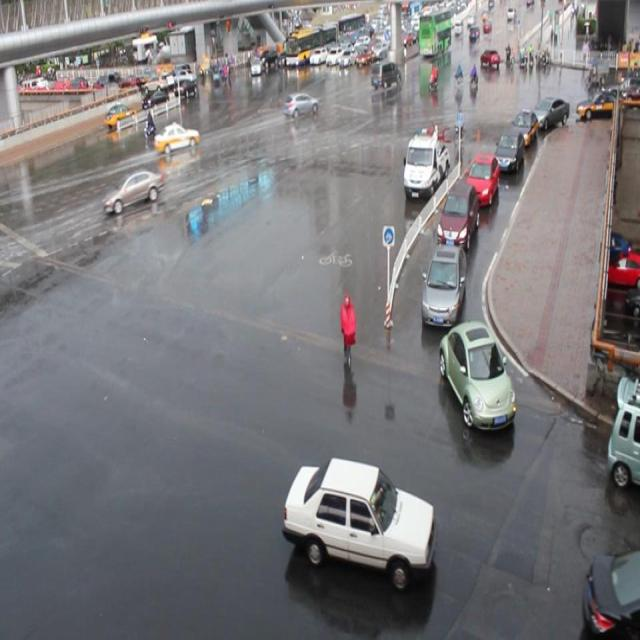bus: (401, 128, 448, 204)
car: (283, 455, 433, 587), (438, 319, 514, 426), (583, 546, 640, 640), (420, 242, 465, 326), (607, 375, 640, 487), (436, 180, 478, 247), (104, 170, 164, 214), (464, 152, 499, 204), (528, 94, 568, 130), (154, 122, 199, 153), (493, 129, 524, 172), (510, 110, 537, 146), (284, 91, 317, 119)
